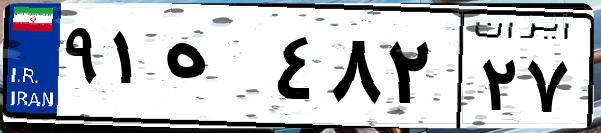1: (110, 28, 158, 98)
2: (385, 28, 445, 110), (475, 38, 525, 113)
4: (270, 28, 330, 110)
7: (525, 38, 570, 115)
8: (330, 28, 385, 110)
9: (57, 26, 110, 100)
ه: (158, 20, 270, 120)
